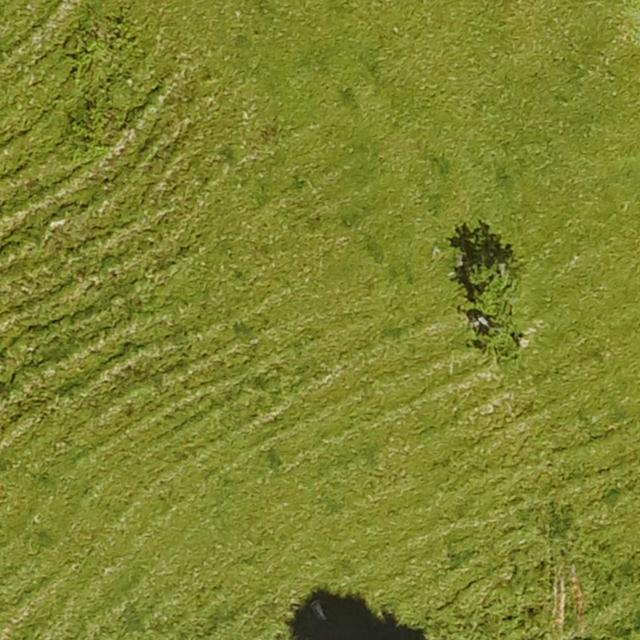tree: (462, 260, 523, 361)
